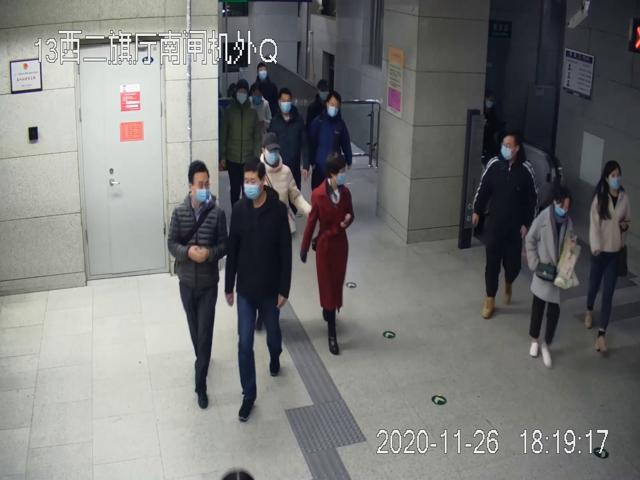person: (223, 155, 293, 422), (168, 159, 227, 409), (472, 128, 535, 320), (299, 151, 356, 358), (525, 186, 576, 370), (585, 159, 631, 355), (269, 89, 310, 236), (219, 79, 263, 210), (309, 88, 353, 194)
